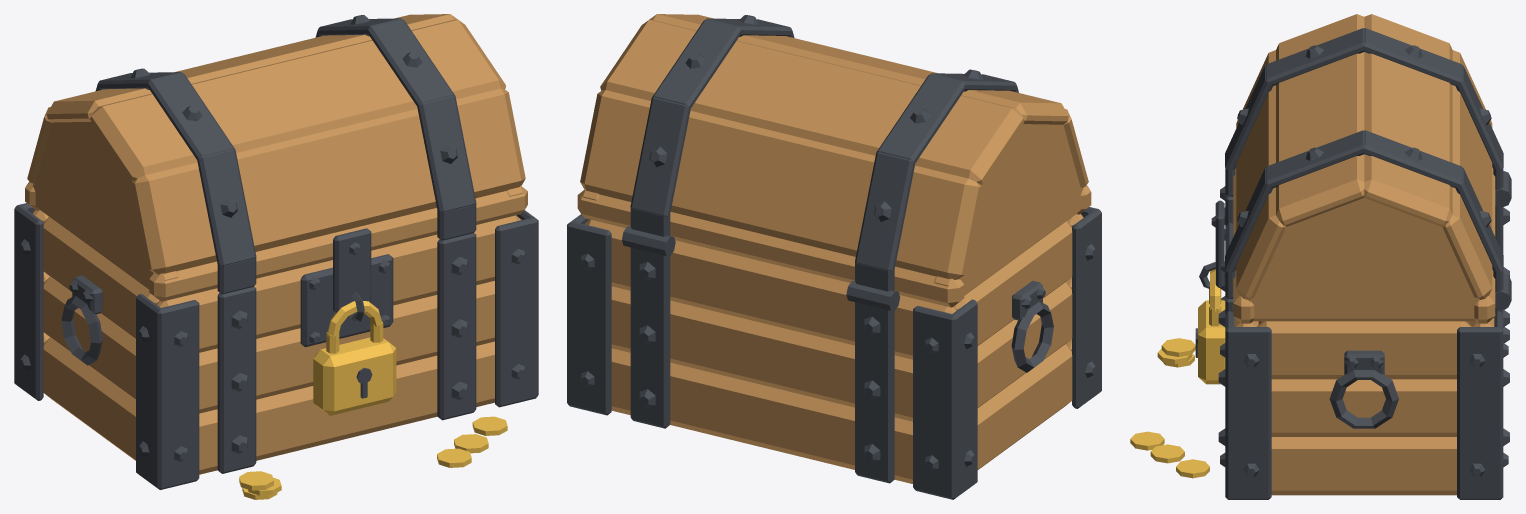
The model's file is treasure-chest.glb.
3 views of the same model, side by side, from view 1: azimuth 30°, elevation 25°; view 2: azimuth 150°, elevation 25°; view 3: azimuth 270°, elevation 25° (orthographic). The views are drawn at different scales.
Visible parts, largest first — view 1: Lid, Chest_Body, Lock, Treasure; view 2: Lid, Chest_Body; view 3: Lid, Chest_Body, Treasure, Lock.
Part boxes in pixels (x1,y1,x2,y2): Lid: (25,14,527,312); Chest_Body: (14,203,538,489); Lock: (313,301,396,415); Treasure: (239,416,507,499); Lid: (577,14,1091,307); Chest_Body: (567,207,1101,499); Lid: (1211,14,1503,323); Chest_Body: (1199,171,1511,499); Treasure: (1130,338,1209,478); Lock: (1195,269,1225,384).
Size of the model in its own units: 4.37 by 3.59 by 3.78.
